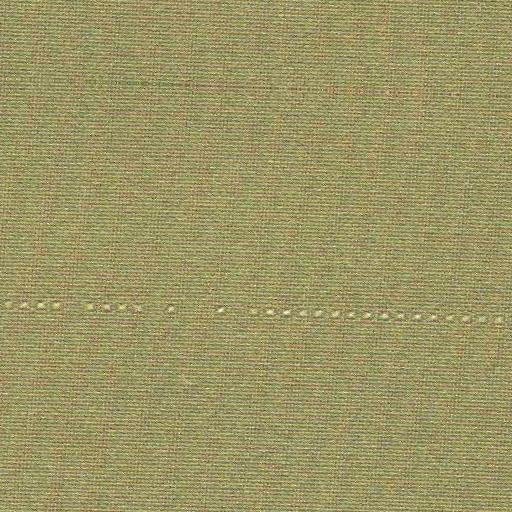slub: (0, 290, 511, 343)
